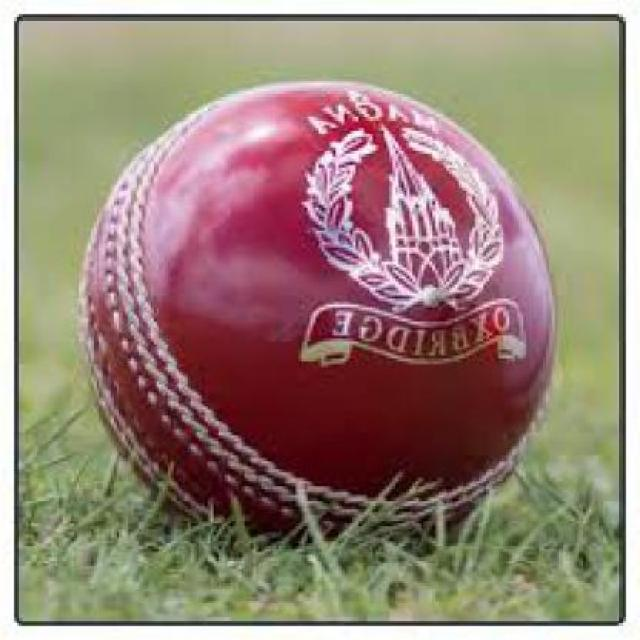ball: (52, 63, 567, 552)
